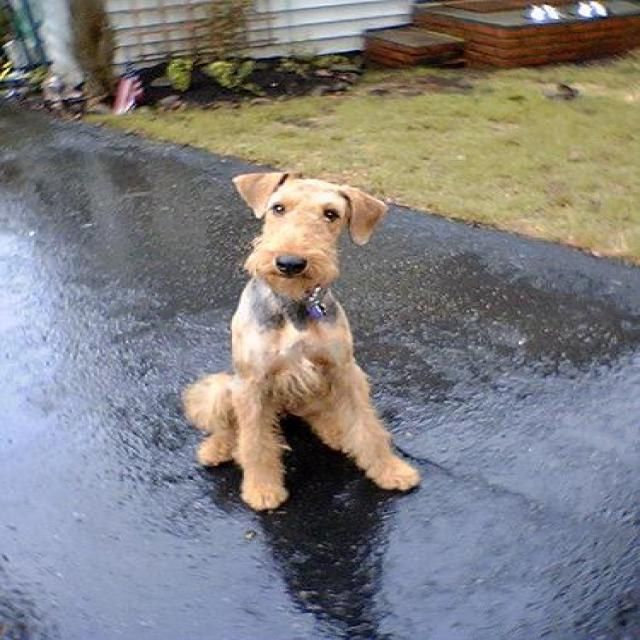airedale: (182, 170, 420, 507)
